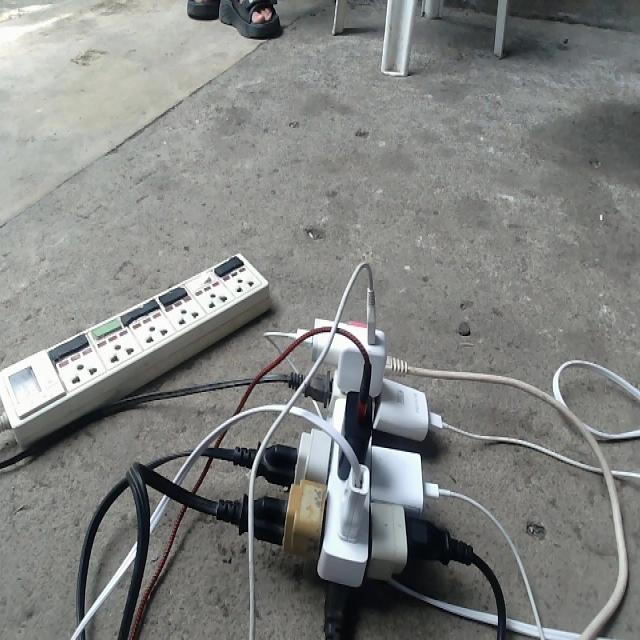-: (272, 309, 442, 588)
